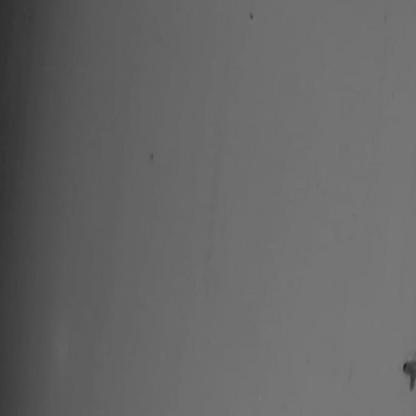kongdong: (378, 352, 416, 397)
